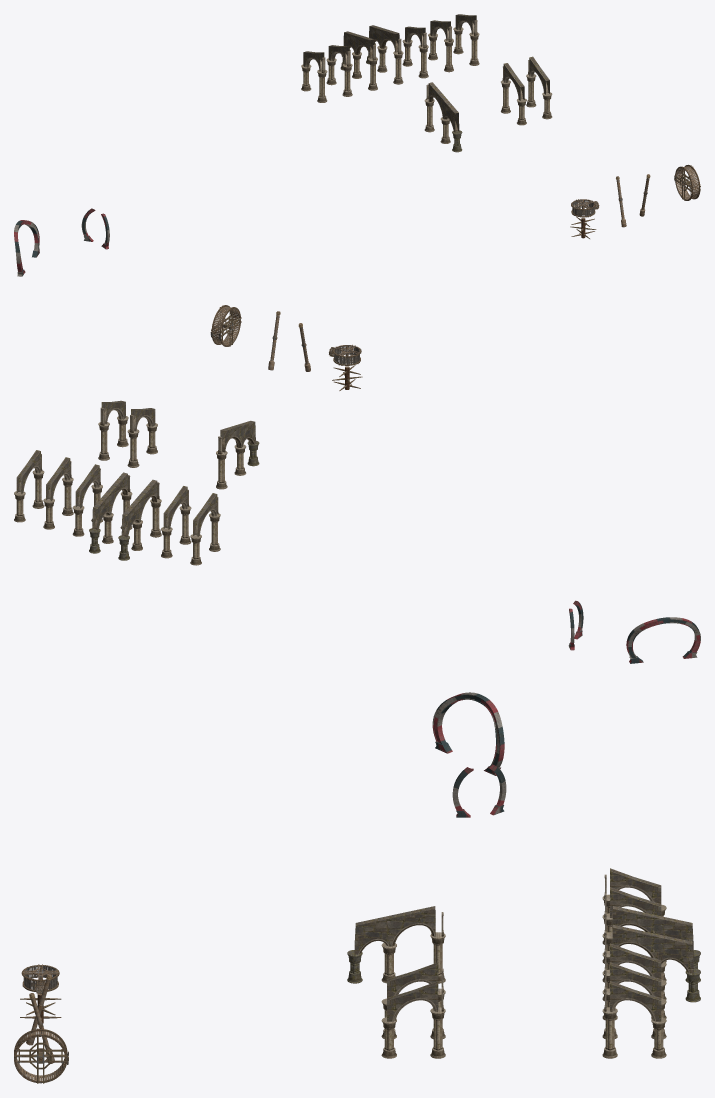
Rendered from enc_int_toki.glb.
3 views of the same model, one above another, from view 1: azimuth 30°, elevation 25°; view 2: azimuth 150°, elevation 25°; view 3: azimuth 270°, elevation 25° (orthographic). The views are drawn at different scales.
Visible parts, largest first — view 1: KB3D_ECI_IntPaladinsArmory_A_ArchSecondFloorZ, KB3D_ECI_IntPaladinsArmory_A_ArchSecondFloorX, KB3D_ECI_IntPaladinsArmory_A_ArchSecondFloorY, KB3D_ECI_IntPaladinsArmory_A_ArchSecondFloorW, KB3D_ECI_IntPaladinsArmory_A_ArchSecondFloorV, KB3D_ECI_IntPaladinsArmory_A_ArchSecondFloorR, KB3D_ECI_IntPaladinsArmory_A_ArchSecondFloorT, KB3D_ECI_IntPaladinsArmory_A_ArchSecondFloorU, KB3D_ECI_IntPaladinsArmory_A_ArchSecondFloorQ, KB3D_ECI_PropWheel_A_GearA, KB3D_ECI_IntPaladinsArmory_A_ArchSecondFloorS, KB3D_ECI_IntWizardOffice_A_ArchwayA; view 2: KB3D_ECI_IntPaladinsArmory_A_ArchSecondFloorY, KB3D_ECI_IntPaladinsArmory_A_ArchSecondFloorZ, KB3D_ECI_IntPaladinsArmory_A_ArchSecondFloorX, KB3D_ECI_IntPaladinsArmory_A_ArchSecondFloorS, KB3D_ECI_IntPaladinsArmory_A_ArchSecondFloorR, KB3D_ECI_IntPaladinsArmory_A_ArchSecondFloorT, KB3D_ECI_IntPaladinsArmory_A_ArchSecondFloorU, KB3D_ECI_IntPaladinsArmory_A_ArchSecondFloorW, KB3D_ECI_IntPaladinsArmory_A_ArchSecondFloorV, KB3D_ECI_PropWheel_A_GearA, KB3D_ECI_IntWizardOffice_A_ArchwayA, KB3D_ECI_IntPaladinsArmory_A_ArchSecondFloorQ; view 3: KB3D_ECI_IntPaladinsArmory_A_ArchSecondFloorZ, KB3D_ECI_IntPaladinsArmory_A_ArchSecondFloorX, KB3D_ECI_IntPaladinsArmory_A_ArchSecondFloorW, KB3D_ECI_IntPaladinsArmory_A_ArchSecondFloorR, KB3D_ECI_IntPaladinsArmory_A_ArchSecondFloorY, KB3D_ECI_PropWheel_A_GearA, KB3D_ECI_IntWizardOffice_A_ArchwayA, KB3D_ECI_IntPaladinsArmory_A_ArchSecondFloorV, KB3D_ECI_IntPaladinsArmory_A_ArchSecondFloorS, KB3D_ECI_IntPaladinsArmory_A_ArchSecondFloorQ, KB3D_ECI_IntPaladinsArmory_A_ArchSecondFloorU, KB3D_ECI_IntPaladinsArmory_A_ArchSecondFloorT (+2 smaller).
Boxes of the visible parts, x1,y1,x2,y2 form: KB3D_ECI_IntPaladinsArmory_A_ArchSecondFloorZ: (424,82,462,152); KB3D_ECI_IntPaladinsArmory_A_ArchSecondFloorX: (366,25,403,84); KB3D_ECI_IntPaladinsArmory_A_ArchSecondFloorY: (340,31,377,90); KB3D_ECI_IntPaladinsArmory_A_ArchSecondFloorW: (526,56,552,119); KB3D_ECI_IntPaladinsArmory_A_ArchSecondFloorV: (501,63,526,125); KB3D_ECI_IntPaladinsArmory_A_ArchSecondFloorR: (453,14,479,65); KB3D_ECI_IntPaladinsArmory_A_ArchSecondFloorT: (326,45,352,96); KB3D_ECI_IntPaladinsArmory_A_ArchSecondFloorU: (301,51,327,102); KB3D_ECI_IntPaladinsArmory_A_ArchSecondFloorQ: (402,26,428,78); KB3D_ECI_PropWheel_A_GearA: (674,164,700,200); KB3D_ECI_IntPaladinsArmory_A_ArchSecondFloorS: (428,20,453,72); KB3D_ECI_IntWizardOffice_A_ArchwayA: (14,220,39,276); KB3D_ECI_IntPaladinsArmory_A_ArchSecondFloorY: (118,479,161,560); KB3D_ECI_IntPaladinsArmory_A_ArchSecondFloorZ: (216,420,259,489); KB3D_ECI_IntPaladinsArmory_A_ArchSecondFloorX: (89,472,132,553); KB3D_ECI_IntPaladinsArmory_A_ArchSecondFloorS: (43,457,73,529); KB3D_ECI_IntPaladinsArmory_A_ArchSecondFloorR: (14,450,44,522); KB3D_ECI_IntPaladinsArmory_A_ArchSecondFloorT: (161,486,191,558); KB3D_ECI_IntPaladinsArmory_A_ArchSecondFloorU: (190,493,220,565); KB3D_ECI_IntPaladinsArmory_A_ArchSecondFloorW: (98,400,128,460); KB3D_ECI_IntPaladinsArmory_A_ArchSecondFloorV: (127,408,157,467); KB3D_ECI_PropWheel_A_GearA: (210,305,241,346); KB3D_ECI_IntWizardOffice_A_ArchwayA: (626,617,700,663); KB3D_ECI_IntPaladinsArmory_A_ArchSecondFloorQ: (72,464,102,536); KB3D_ECI_IntPaladinsArmory_A_ArchSecondFloorZ: (347,906,445,983); KB3D_ECI_IntPaladinsArmory_A_ArchSecondFloorX: (602,924,700,1002); KB3D_ECI_IntPaladinsArmory_A_ArchSecondFloorW: (381,981,445,1058); KB3D_ECI_IntPaladinsArmory_A_ArchSecondFloorR: (602,981,666,1058); KB3D_ECI_IntPaladinsArmory_A_ArchSecondFloorY: (602,906,700,982); KB3D_ECI_PropWheel_A_GearA: (14,1028,68,1083); KB3D_ECI_IntWizardOffice_A_ArchwayA: (432,692,504,775); KB3D_ECI_IntPaladinsArmory_A_ArchSecondFloorV: (381,962,445,1039); KB3D_ECI_IntPaladinsArmory_A_ArchSecondFloorS: (602,962,666,1039); KB3D_ECI_IntPaladinsArmory_A_ArchSecondFloorQ: (602,943,666,1020); KB3D_ECI_IntPaladinsArmory_A_ArchSecondFloorU: (602,868,666,944); KB3D_ECI_IntPaladinsArmory_A_ArchSecondFloorT: (602,887,666,963).
Bounding box in the file's own units: 58.84 × 9.74 × 42.29.
Materials: 12 (12 with a texture image).
